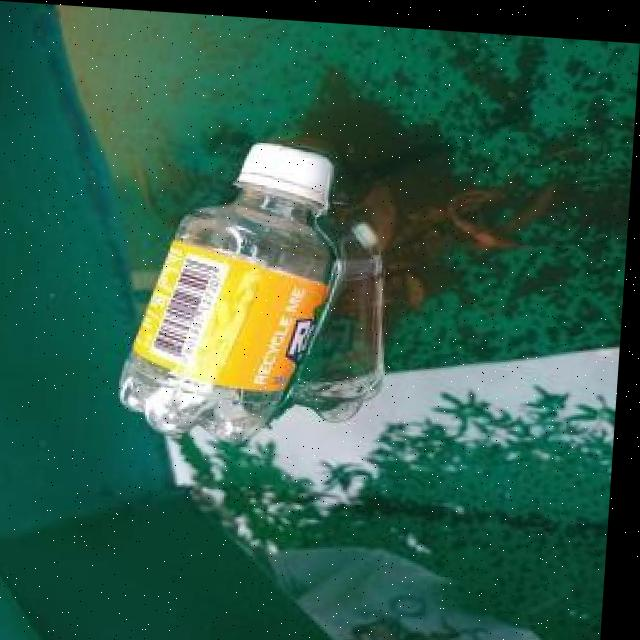bottle: (117, 127, 348, 449)
